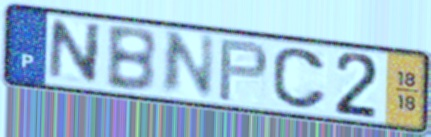2: (331, 50, 381, 122)
B: (104, 25, 159, 95)
C: (270, 45, 330, 112)
N: (158, 29, 218, 99), (45, 18, 105, 87)
P: (216, 37, 272, 104)
